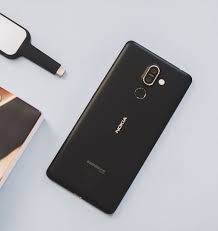nokia: (45, 36, 194, 216)
